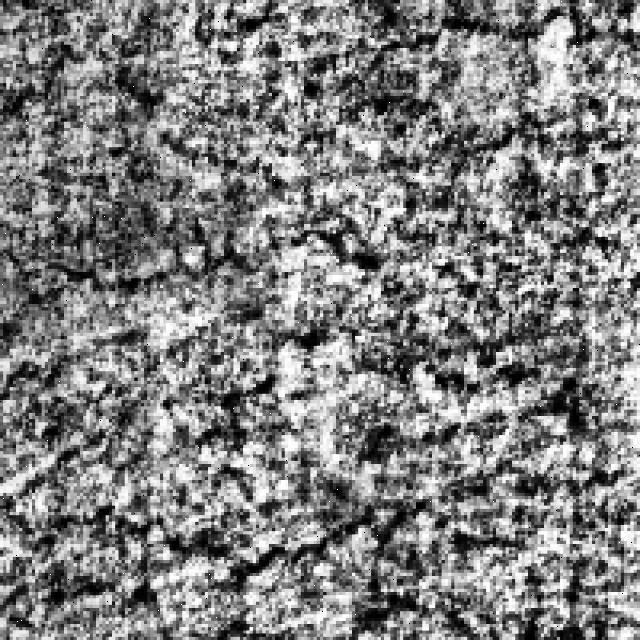Pitted_Surface: (0, 426, 554, 576), (0, 260, 368, 410)
